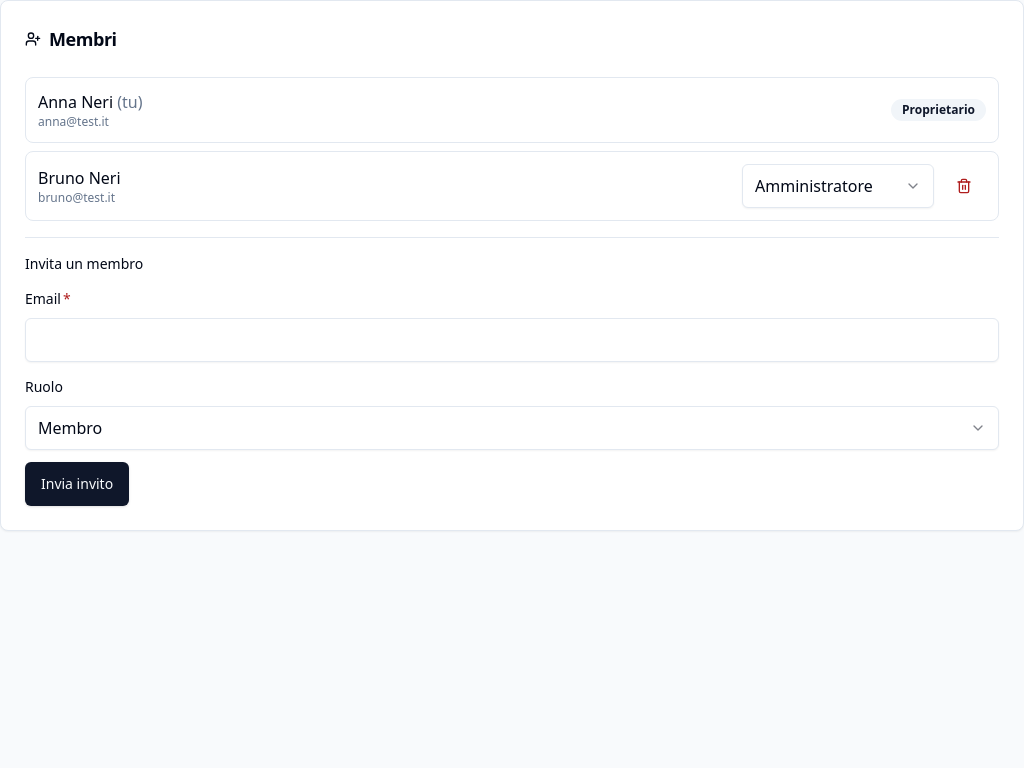
Test: MembersCard — cambio di ruolo › annullare la conferma non chiama il backend e il select mostra ancora il ruolo del server
Click the dropdown named "Cambia il ruolo di Bruno Neri": {"x": 838, "y": 186} x1=742 y1=164 x2=934 y2=208
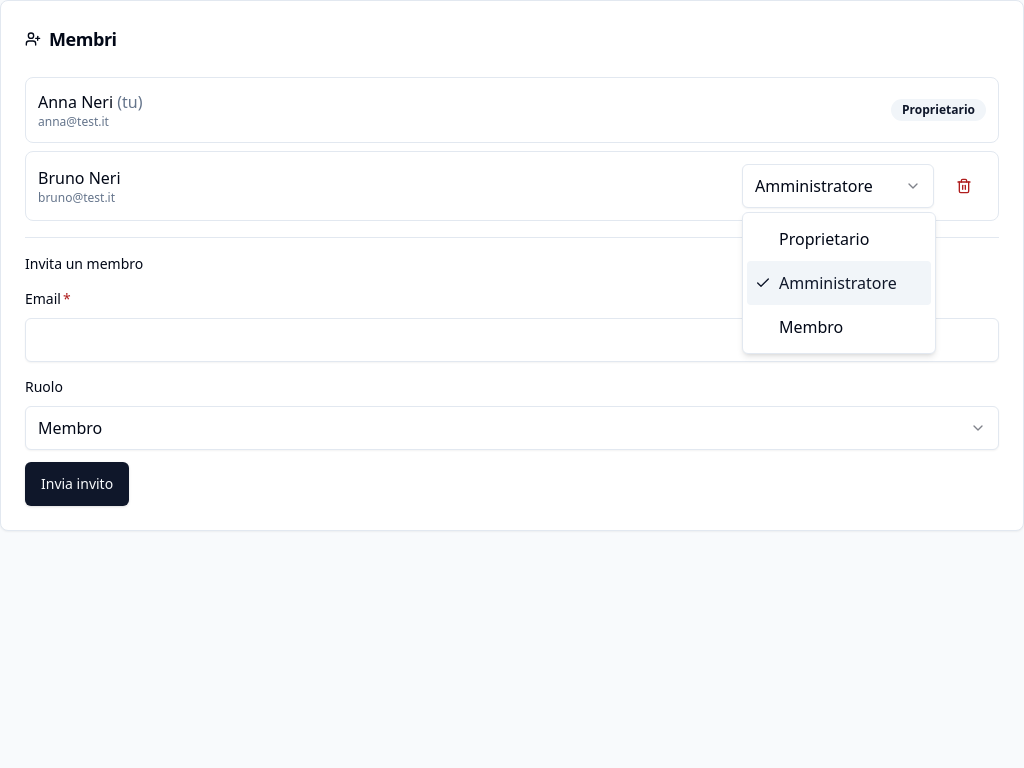
Click the option "Membro": {"x": 811, "y": 327} x1=779 y1=316 x2=843 y2=338
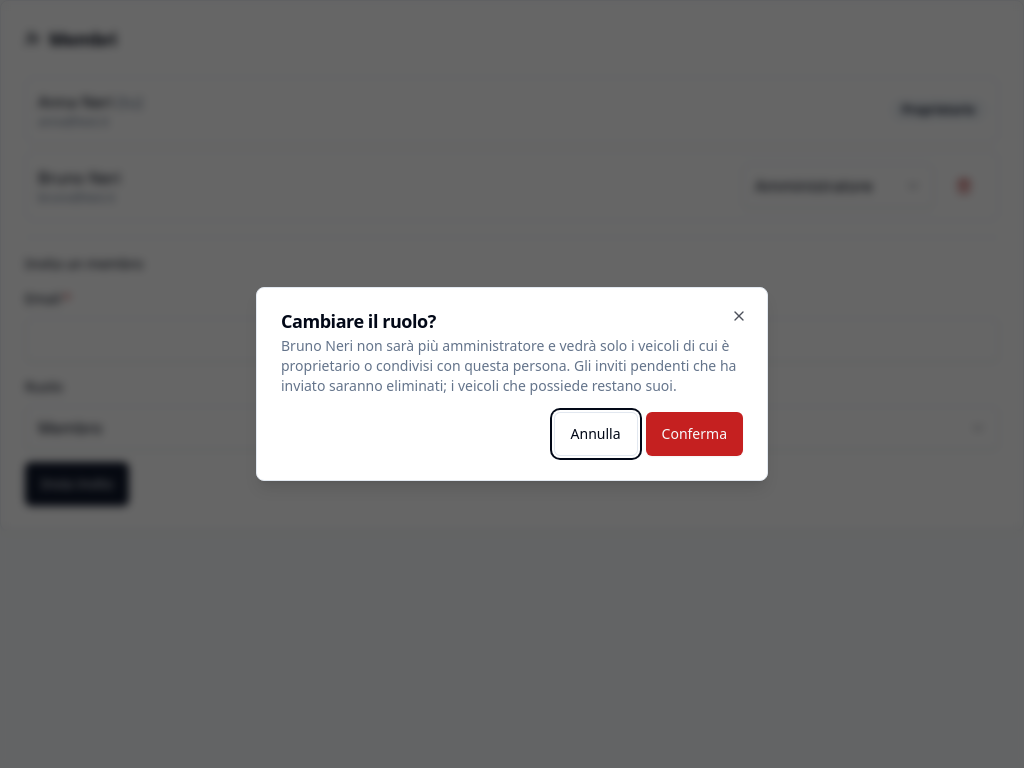
Now the dialog shows "Bruno Neri non sarà più amministratore", box x1=281 y1=336 x2=736 y2=395
Click the button "Annulla": {"x": 596, "y": 434} x1=554 y1=412 x2=638 y2=456
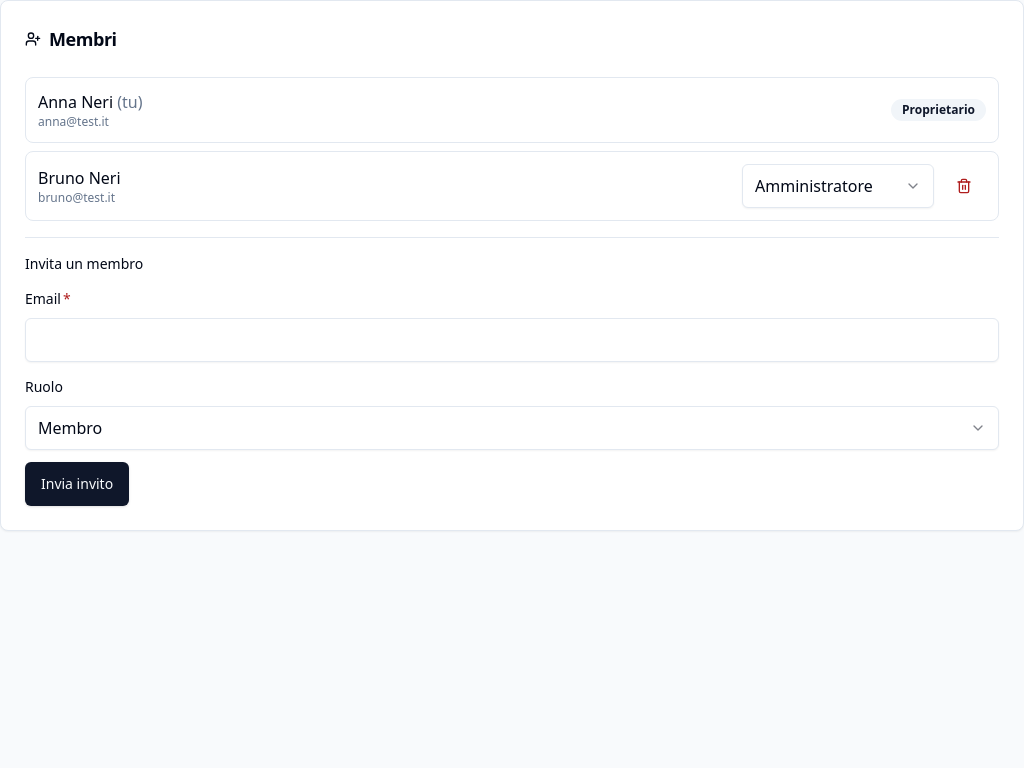
Expected: the dropdown named "Cambia il ruolo di Bruno Neri" reads "Amministratore", x1=742 y1=164 x2=934 y2=208
Now the dialog is gone
